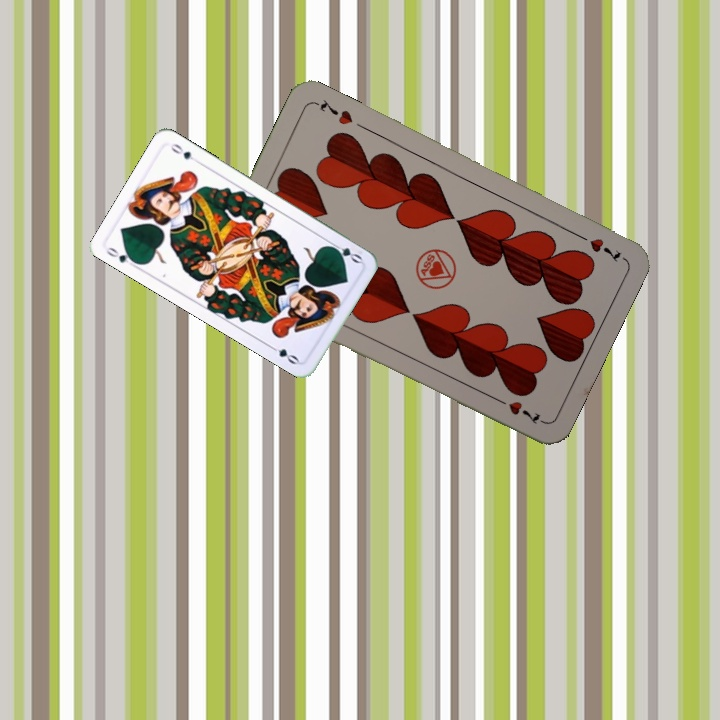GO: (325, 238, 365, 266), (102, 243, 141, 271)
H7: (571, 229, 624, 265)
